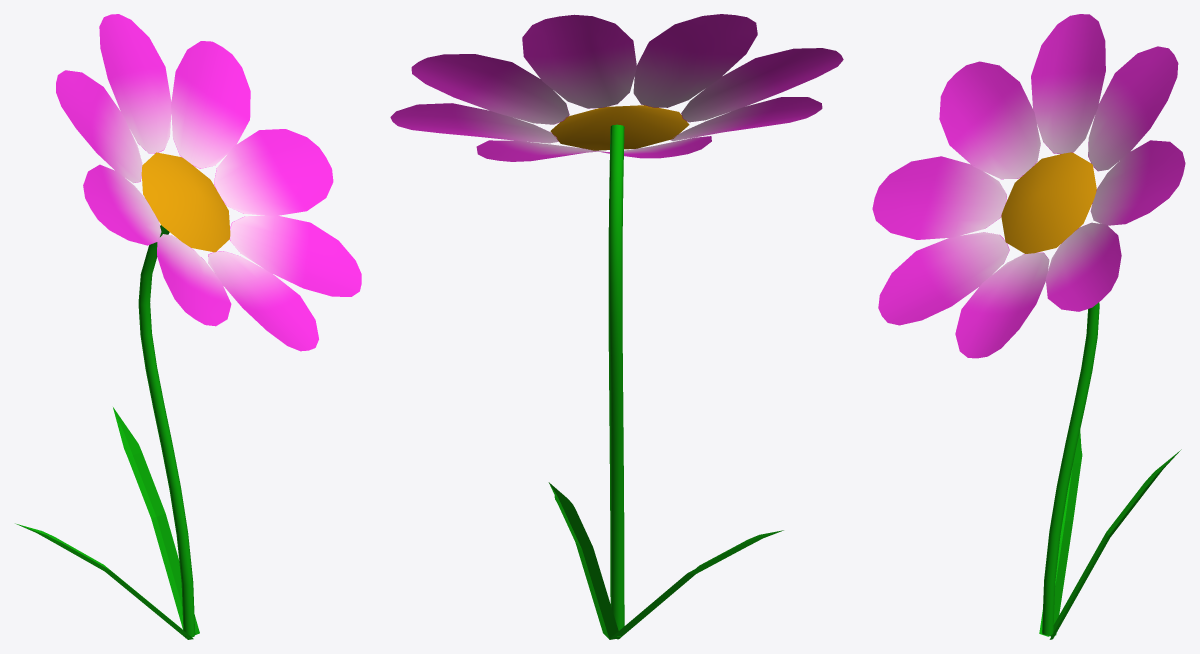
Rendered from pink flower.fbx.
3 views of the same model, side by side, from view 1: azimuth 30°, elevation 25°; view 2: azimuth 150°, elevation 25°; view 3: azimuth 270°, elevation 25° (orthographic). The views are drawn at different scales.
Visible parts, largest first — view 1: pink flower; view 2: pink flower; view 3: pink flower.
Boxes of the visible parts, x1,y1,x2,y2 form: pink flower: (15, 14, 361, 639); pink flower: (390, 14, 843, 639); pink flower: (872, 14, 1185, 639).
Bounding box in the file's own units: 627 × 1078 × 530.
